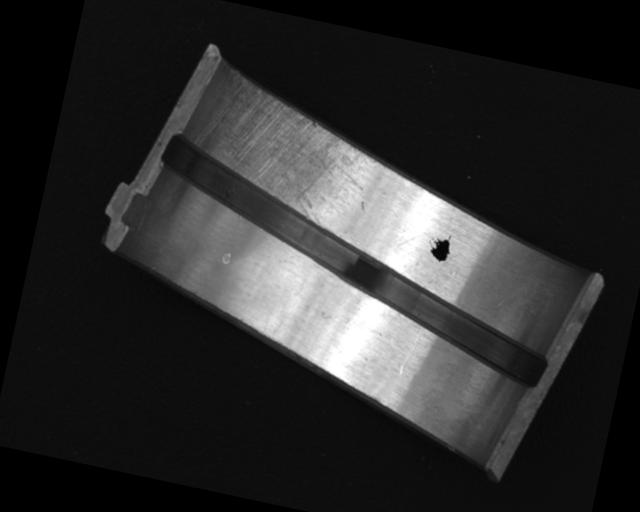blot: (426, 231, 455, 264)
bruise: (220, 249, 233, 265)
gap: (133, 133, 580, 390)
nick: (398, 324, 423, 377)
scratch: (199, 74, 385, 236)
